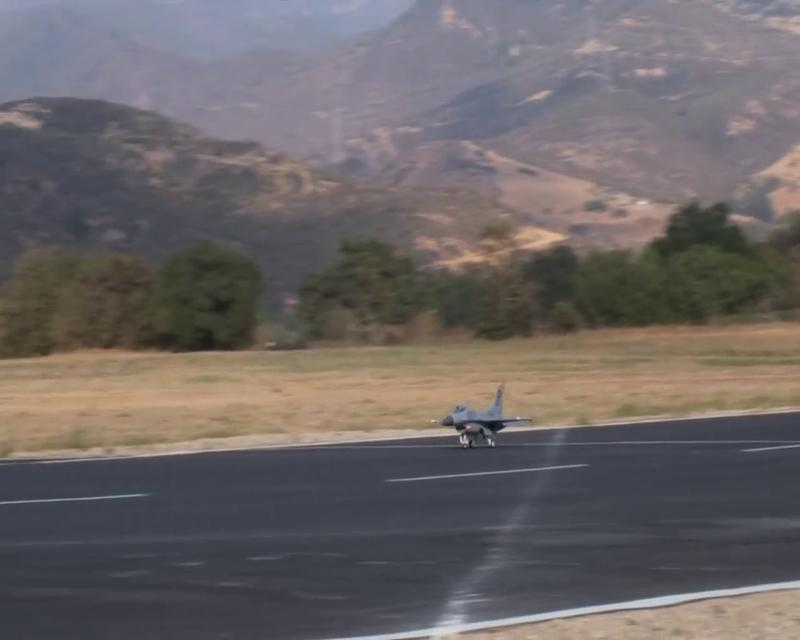UAV: (430, 379, 533, 448)
